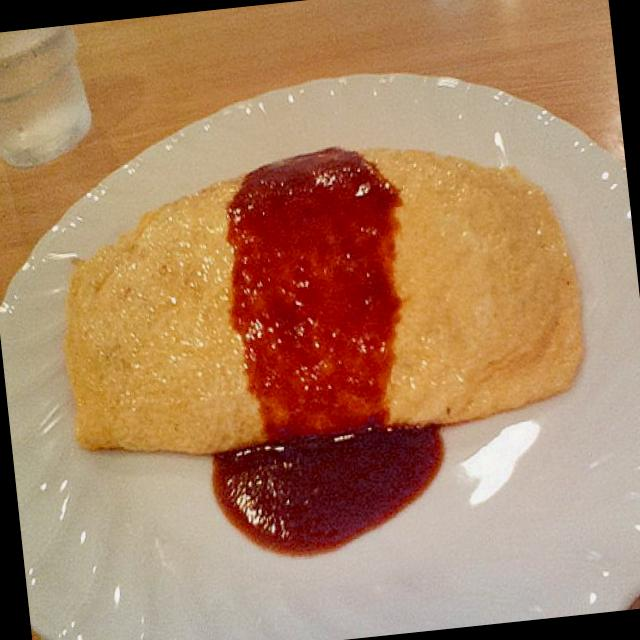Omelet: (40, 114, 599, 476)
